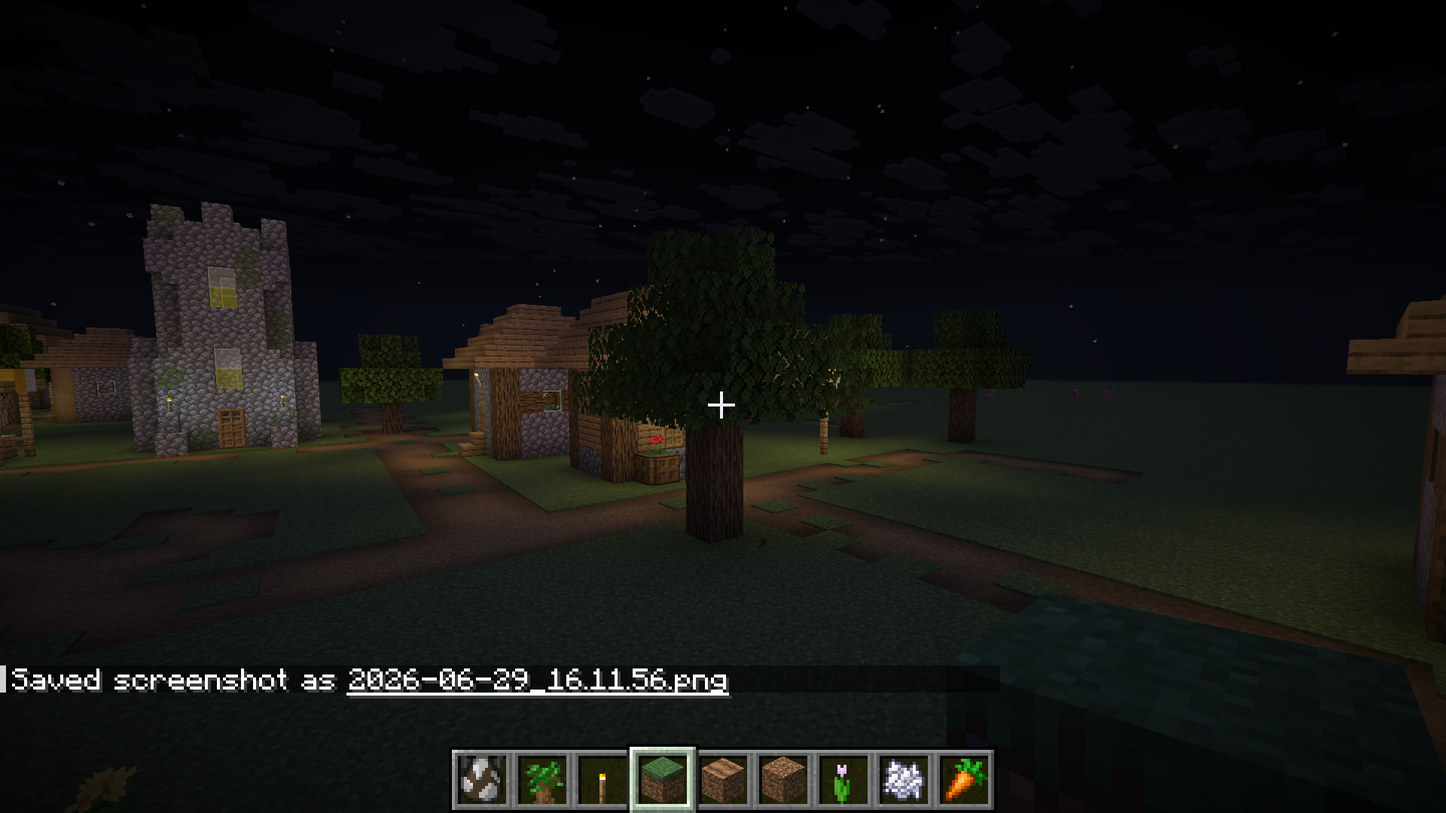Tree: (555, 214, 865, 571), (896, 298, 1041, 458), (328, 316, 453, 450)
cablestone: (209, 306, 242, 346), (205, 205, 236, 237), (258, 359, 290, 387)
wood: (690, 449, 743, 517), (952, 389, 977, 437)
